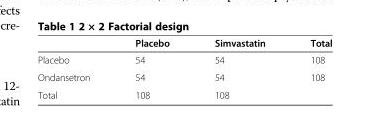table: (36, 36, 331, 100)
table column: (191, 36, 287, 100), (111, 36, 191, 100), (36, 36, 111, 100), (287, 36, 331, 100)
table column header: (36, 36, 331, 51)
table row: (36, 51, 331, 68), (36, 68, 331, 85), (36, 36, 331, 51), (36, 85, 331, 100)
